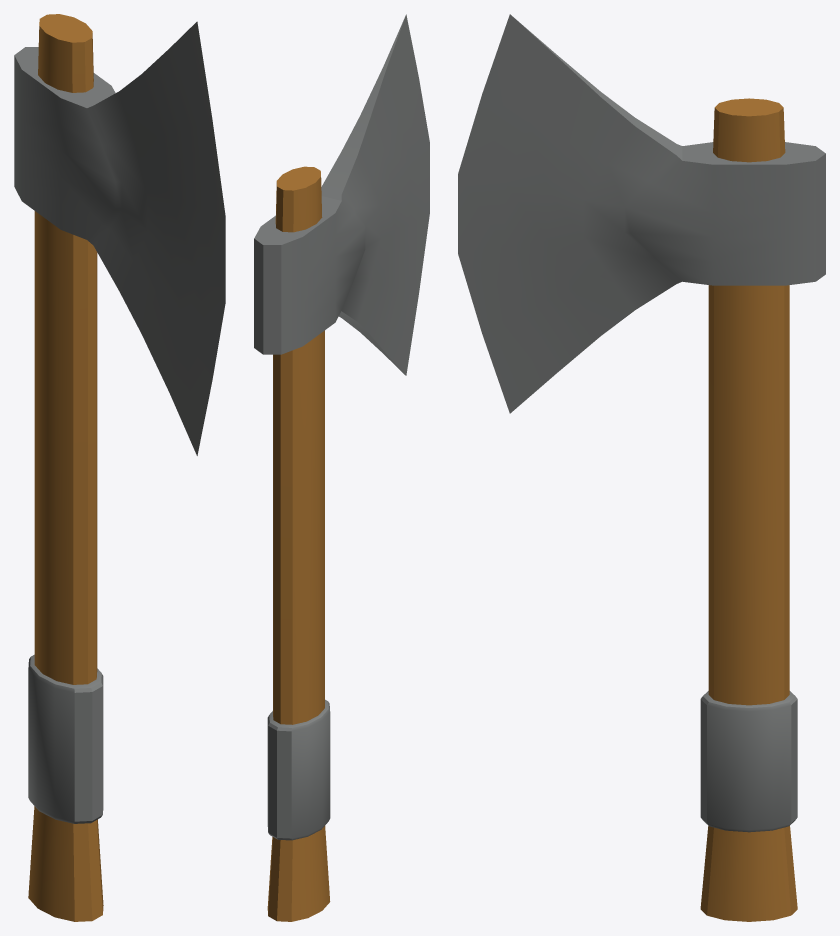
The model's file is BaltaLevel3.fbx.
3 renders of one model, left to right at view 1: azimuth 30°, elevation 25°; view 2: azimuth 150°, elevation 25°; view 3: azimuth 270°, elevation 25°, orthographic. The views are drawn at different scales.
Visible parts, largest first — view 1: BaltaLevel3; view 2: BaltaLevel3; view 3: BaltaLevel3.
Part boxes in pixels (left/top/right/bottom): BaltaLevel3: left=14, top=14, right=225, bottom=921; BaltaLevel3: left=254, top=14, right=429, bottom=921; BaltaLevel3: left=458, top=14, right=825, bottom=921.
Size of the model in its own units: 11.98 by 199 by 73.94.
